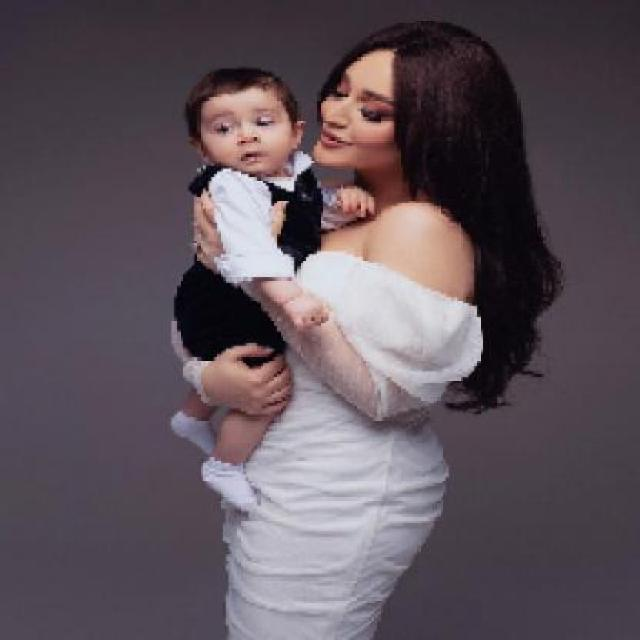child: (167, 65, 376, 518)
